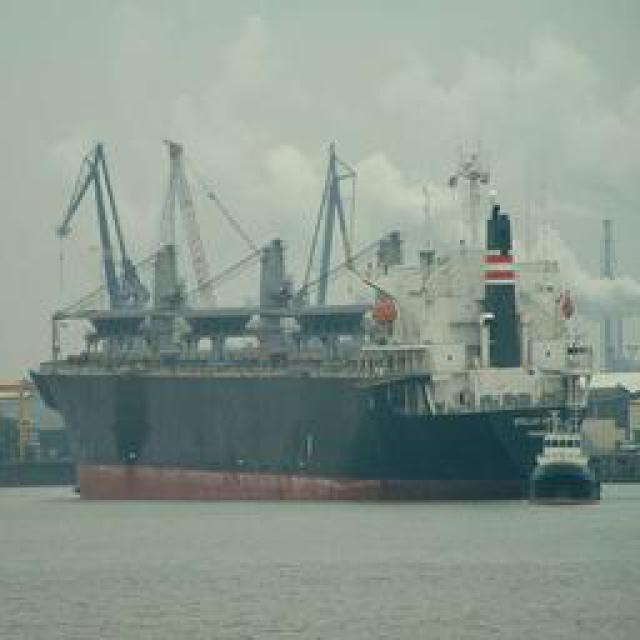Ship: (40, 135, 638, 470)
